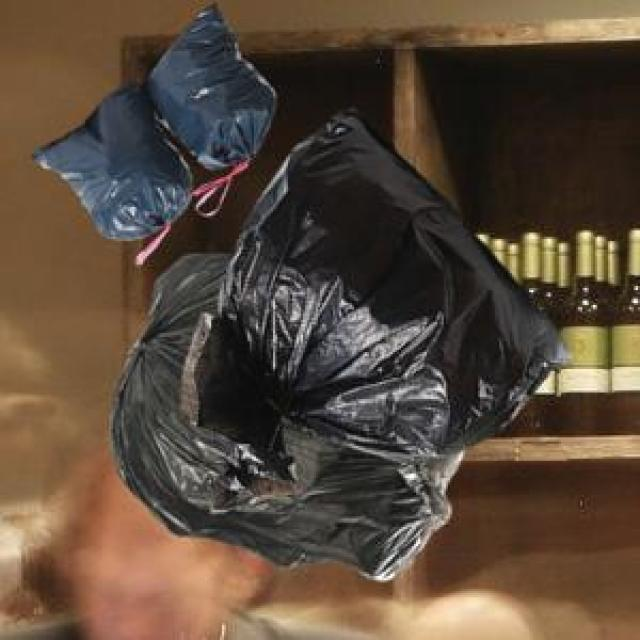Trashbag: (230, 122, 576, 456), (45, 101, 185, 245), (154, 23, 270, 155)
